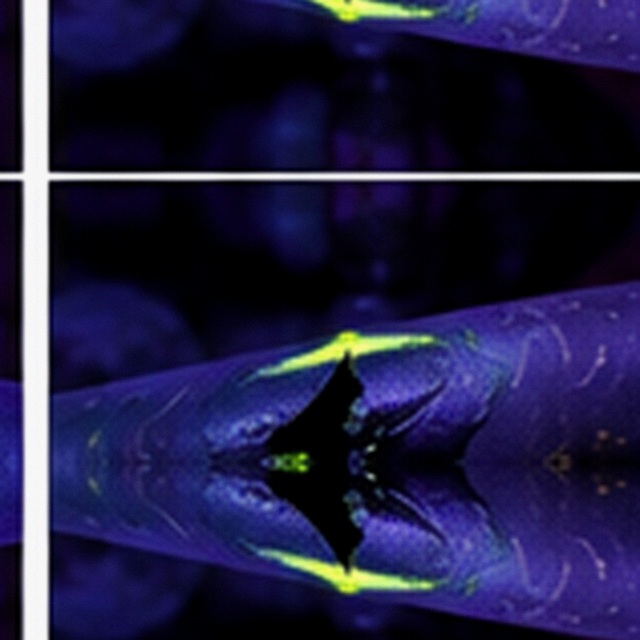hydraulic_oil_leak: (261, 331, 439, 373), (263, 551, 431, 593), (275, 453, 307, 471)
